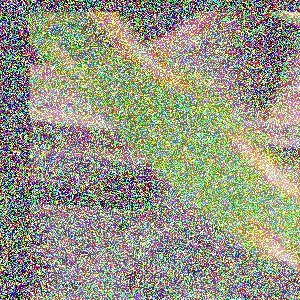Brown_Spot: (203, 194, 300, 280), (225, 119, 300, 211), (97, 16, 184, 91), (39, 31, 98, 95)
